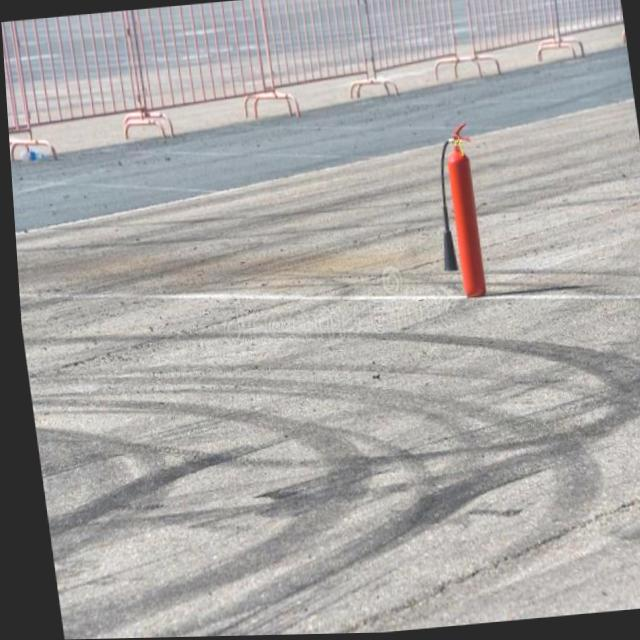FireExtinguisher: (418, 120, 490, 306)
